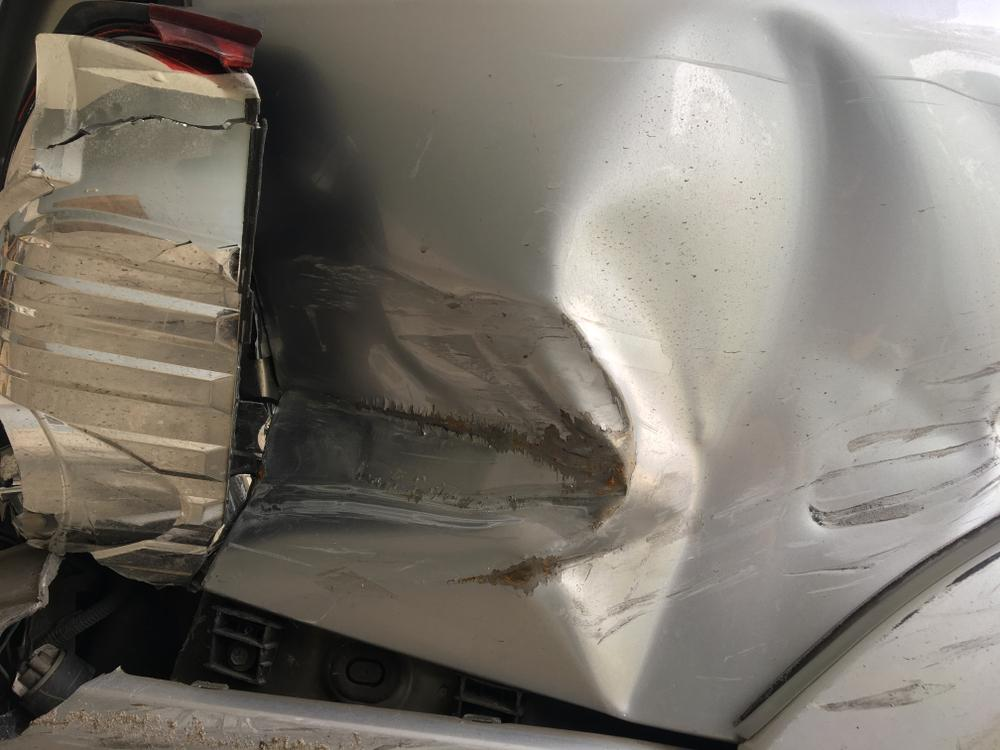crack: (39, 112, 252, 150)
dent: (233, 0, 1000, 728)
scratch: (814, 538, 1000, 719)
